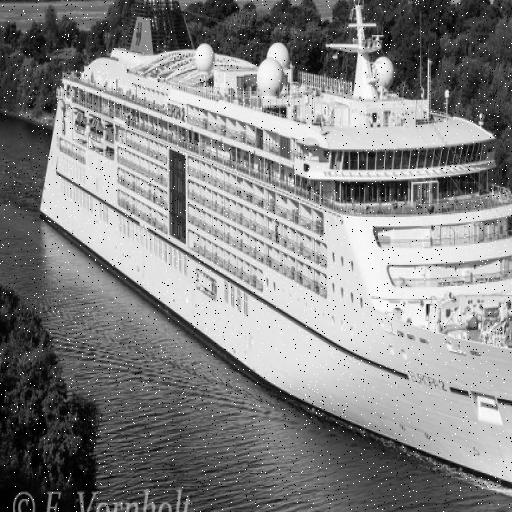cruises: (28, 1, 512, 509)
